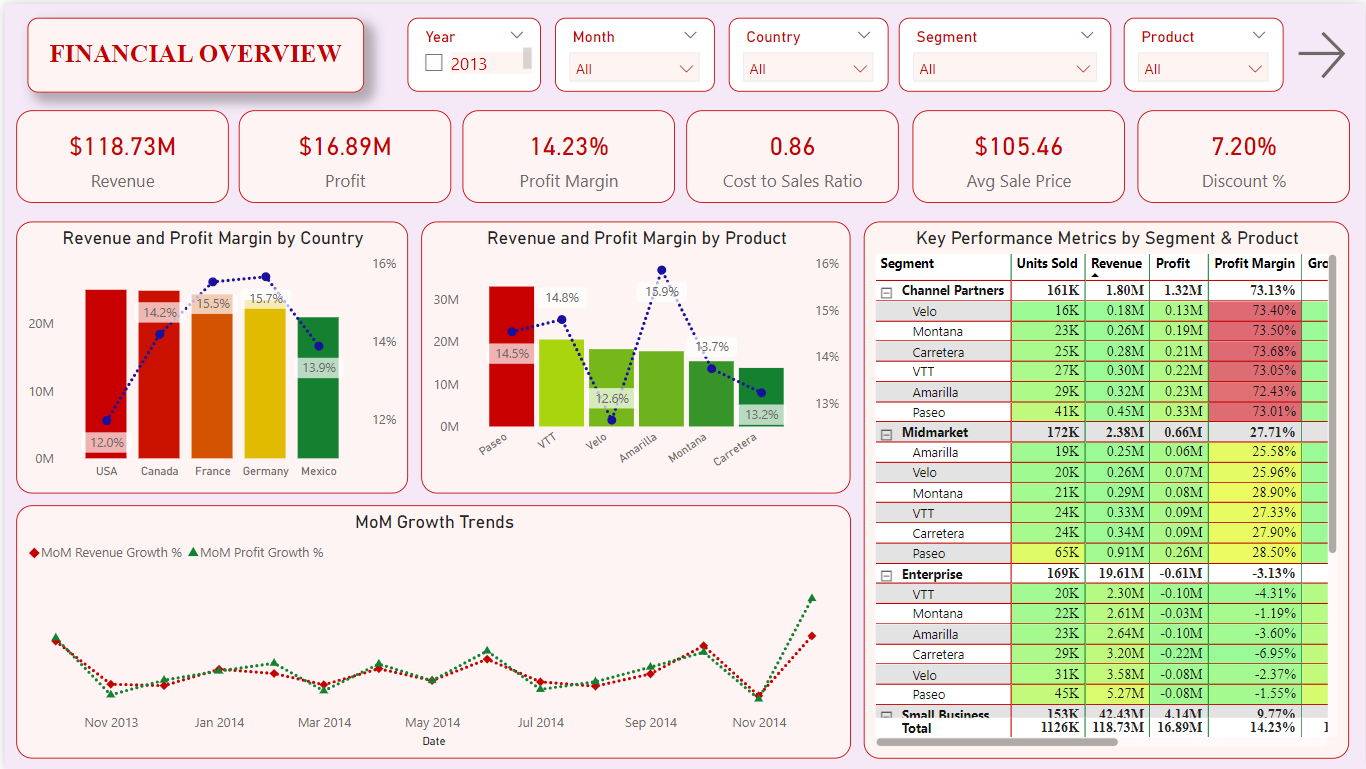

What the dashboard file says about the page in this screenshot:
{"tool":"powerbi","page":{"name":"Financial Overview","canvas":[1280,720],"ordinal":0},"visuals":[{"type":"lineClusteredColumnComboChart","fields":{"Category":["Finance.Product"],"Y":["base measures.total revenue"],"Y2":["base measures.profit margin"]},"box":[391.4,204.3,404.3,255.7],"z":0},{"type":"pivotTable","title":"Key Performance Metrics by Segment & Product","fields":{"Rows":["Finance.Segment","Finance.Product"],"Values":["base measures.total units sold","base measures.total revenue","base measures.total profit","base measures.profit margin","base measures.total gross sales","base measures.total discounts","base measures.discount %","base measures.total cogs"]},"box":[808.6,204.3,457.1,505.7],"z":1000},{"type":"lineClusteredColumnComboChart","fields":{"Y":["base measures.total revenue"],"Y2":["base measures.profit margin"],"Category":["Finance.Country"]},"box":[10,204.3,368.6,255.7],"z":2000},{"type":"lineChart","title":"MoM Growth Trends","fields":{"Category":["Finance.Date","Finance.Month_Name","Finance.Day"],"Y":["base measures.Revenue MoM Growth %","base measures.MoM Profit Growth %"]},"box":[10,471.4,785.7,238.6],"z":3000},{"type":"textbox","box":[21.4,12.9,317.1,70],"z":4000},{"type":"card","fields":{"Values":["base measures.Revenue"]},"box":[10,100,200,87],"z":5000},{"type":"card","fields":{"Values":["base measures.Profit"]},"box":[220,100,200,87.1],"z":6000},{"type":"card","fields":{"Values":["base measures.Profit Margin"]},"box":[430,100,200,87.1],"z":7000},{"type":"card","fields":{"Values":["base measures.Cost to Sales Ratio"]},"box":[641,100,200,87.1],"z":8000},{"type":"card","fields":{"Values":["base measures.Avg Sale Price"]},"box":[854,100,200,87.1],"z":9000},{"type":"card","fields":{"Values":["base measures.Discount %"]},"box":[1065.7,100,200,87.1],"z":10000},{"type":"slicer","fields":{"Values":["Finance.Year"]},"box":[379.1,12.8,125.6,69.8],"z":11000},{"type":"slicer","fields":{"Values":["Finance.Month"]},"box":[517.4,12.8,150,69.8],"z":12000},{"type":"slicer","fields":{"Values":["Finance.Country"]},"box":[681.4,12.8,150,69.8],"z":13000},{"type":"slicer","fields":{"Values":["Finance.Segment"]},"box":[840.7,12.8,200,69.8],"z":14000},{"type":"slicer","fields":{"Values":["Finance.Product"]},"box":[1053.5,12.8,150,69.8],"z":15000},{"type":"actionButton","box":[1210.5,12.8,55.8,69.8],"z":16000}]}

Visuals, with their boxes in screenshot pixels (x1, y1, x2, y2), scaled from the page's 1280x720 canvas onto the 1366x769 screenshot:
lineClusteredColumnComboChart - Finance.Product x base measures.total revenue: (left=418, top=218, right=849, bottom=491)
"Key Performance Metrics by Segment & Product" pivotTable: (left=863, top=218, right=1351, bottom=758)
lineClusteredColumnComboChart - base measures.total revenue x base measures.profit margin: (left=11, top=218, right=404, bottom=491)
"MoM Growth Trends" lineChart: (left=11, top=503, right=849, bottom=758)
textbox: (left=23, top=14, right=361, bottom=89)
card - base measures.Revenue: (left=11, top=107, right=224, bottom=200)
card - base measures.Profit: (left=235, top=107, right=448, bottom=200)
card - base measures.Profit Margin: (left=459, top=107, right=672, bottom=200)
card - base measures.Cost to Sales Ratio: (left=684, top=107, right=898, bottom=200)
card - base measures.Avg Sale Price: (left=911, top=107, right=1125, bottom=200)
card - base measures.Discount %: (left=1137, top=107, right=1351, bottom=200)
slicer - Finance.Year: (left=405, top=14, right=539, bottom=88)
slicer - Finance.Month: (left=552, top=14, right=712, bottom=88)
slicer - Finance.Country: (left=727, top=14, right=887, bottom=88)
slicer - Finance.Segment: (left=897, top=14, right=1111, bottom=88)
slicer - Finance.Product: (left=1124, top=14, right=1284, bottom=88)
actionButton: (left=1292, top=14, right=1351, bottom=88)
